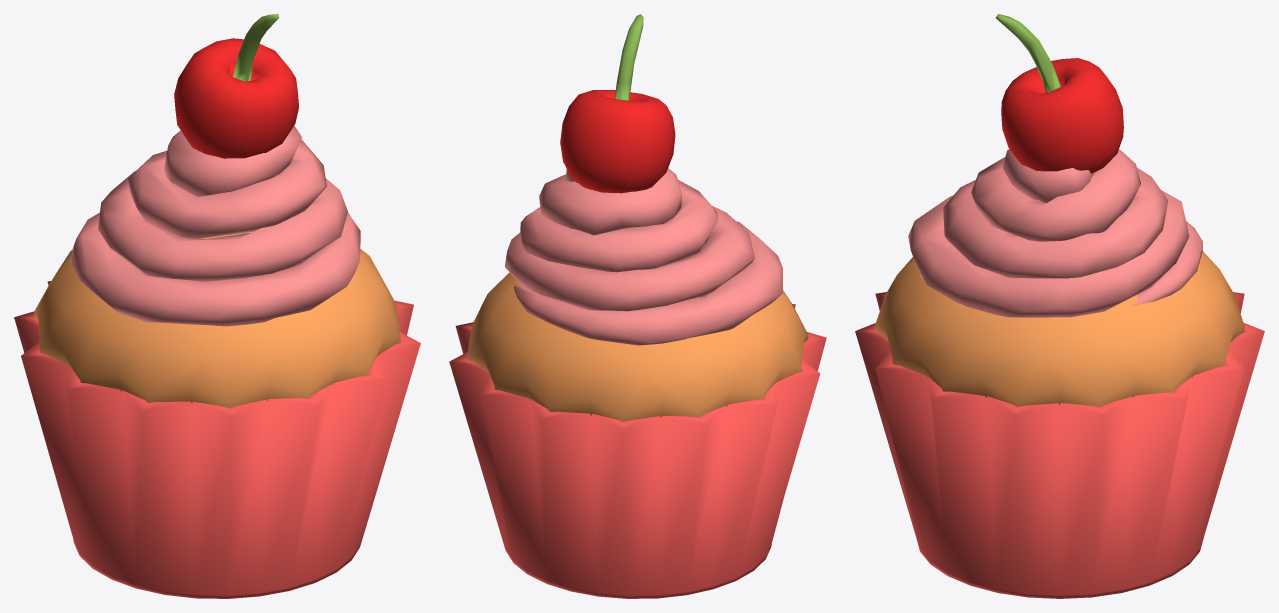
File: Cupcake-1.fbx
The picture shows the model from 3 angles, left to right: view 1: azimuth 30°, elevation 25°; view 2: azimuth 150°, elevation 25°; view 3: azimuth 270°, elevation 25°; orthographic projection. The views are drawn at different scales.
Parts seen in each view (by area): view 1: Cupcake-1; view 2: Cupcake-1; view 3: Cupcake-1.
Part boxes in pixels (<box>): Cupcake-1: <box>14,14,420,598</box>; Cupcake-1: <box>449,14,826,598</box>; Cupcake-1: <box>855,14,1264,598</box>.
Bounding box in the file's own units: 36.82 × 54.69 × 37.76.
